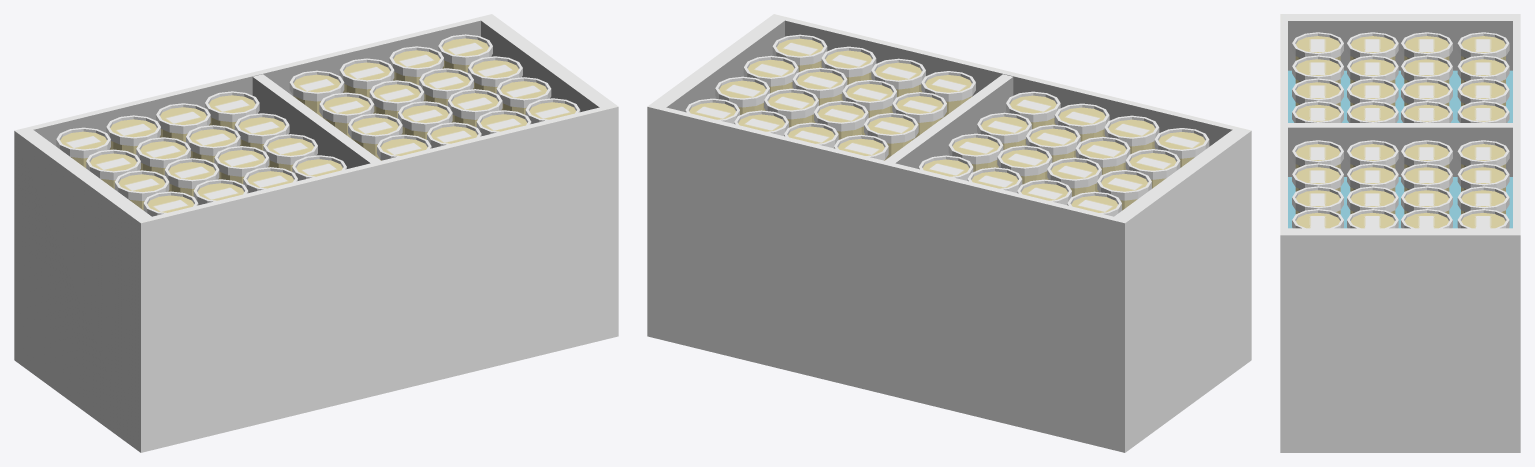
Rendered from vanilla_ice_cream_box.gltf.
The picture shows the model from 3 angles, left to right: view 1: azimuth 30°, elevation 25°; view 2: azimuth 150°, elevation 25°; view 3: azimuth 270°, elevation 25°; orthographic projection. The views are drawn at different scales.
Parts seen in each view (by area): view 1: Cube; view 2: Cube; view 3: Cube.
Part boxes in pixels (left/top/right/bottom): Cube: left=14, top=14, right=618, bottom=452; Cube: left=647, top=14, right=1251, bottom=452; Cube: left=1280, top=14, right=1520, bottom=452.
Size of the model in its own units: 9.22 by 4.23 by 4.23.
Materials: 3 (3 with a texture image).
